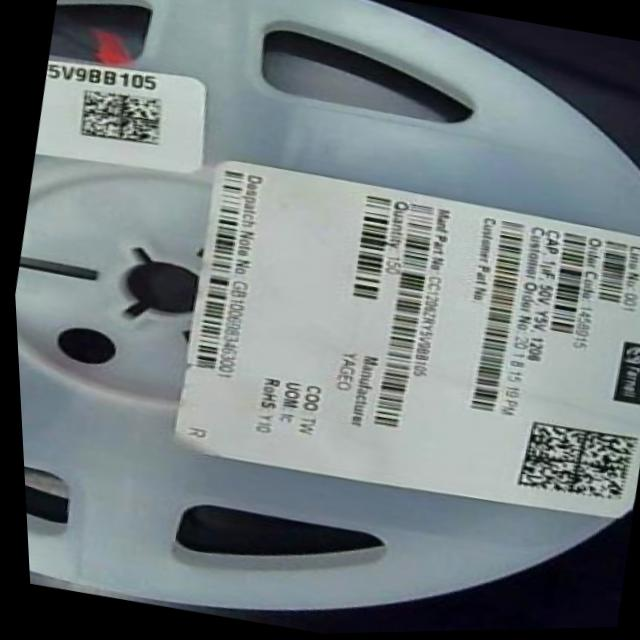datamatrix: (505, 418, 640, 515), (69, 86, 168, 154)
